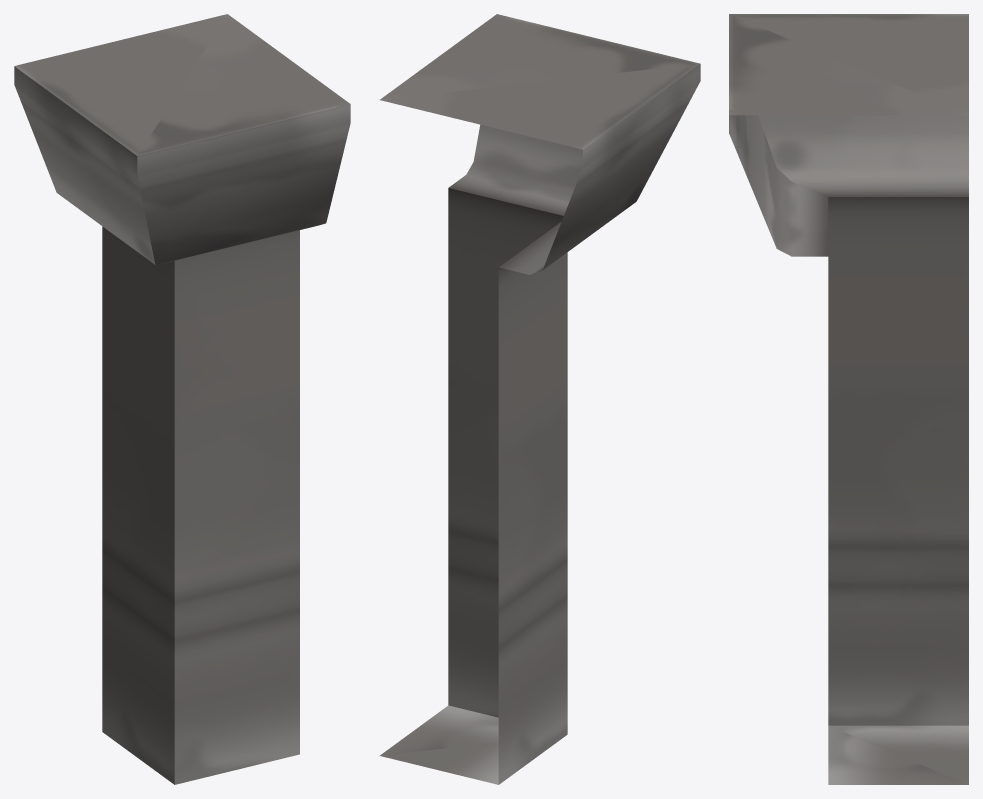
File: PropTrimFacade02_1A.FBX
3 views of the same model, side by side, from view 1: azimuth 30°, elevation 25°; view 2: azimuth 150°, elevation 25°; view 3: azimuth 270°, elevation 25° (orthographic). The views are drawn at different scales.
Visible parts, largest first — view 1: PropTrimFacade02_1A; view 2: PropTrimFacade02_1A; view 3: PropTrimFacade02_1A.
Boxes of the visible parts, <box> form: PropTrimFacade02_1A: <box>14,14,350,784</box>; PropTrimFacade02_1A: <box>380,14,700,784</box>; PropTrimFacade02_1A: <box>729,14,968,784</box>.
Size of what is drawn, in the model's own units: 0.2436 by 0.75 by 0.2436.
